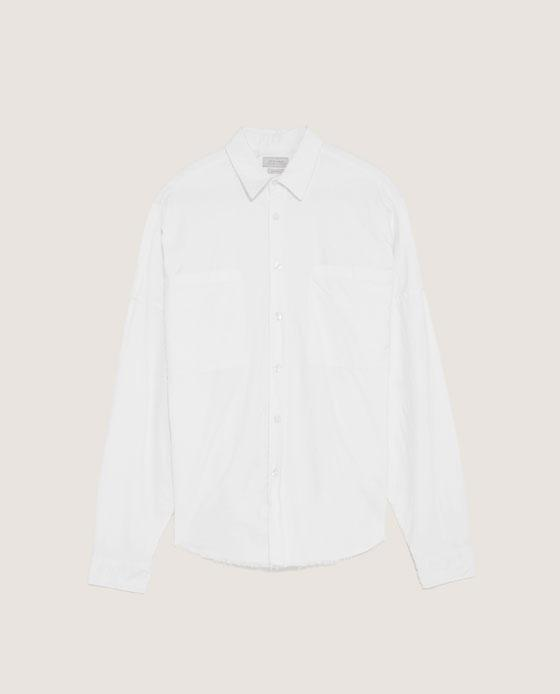teeshirt: (95, 116, 483, 597)
